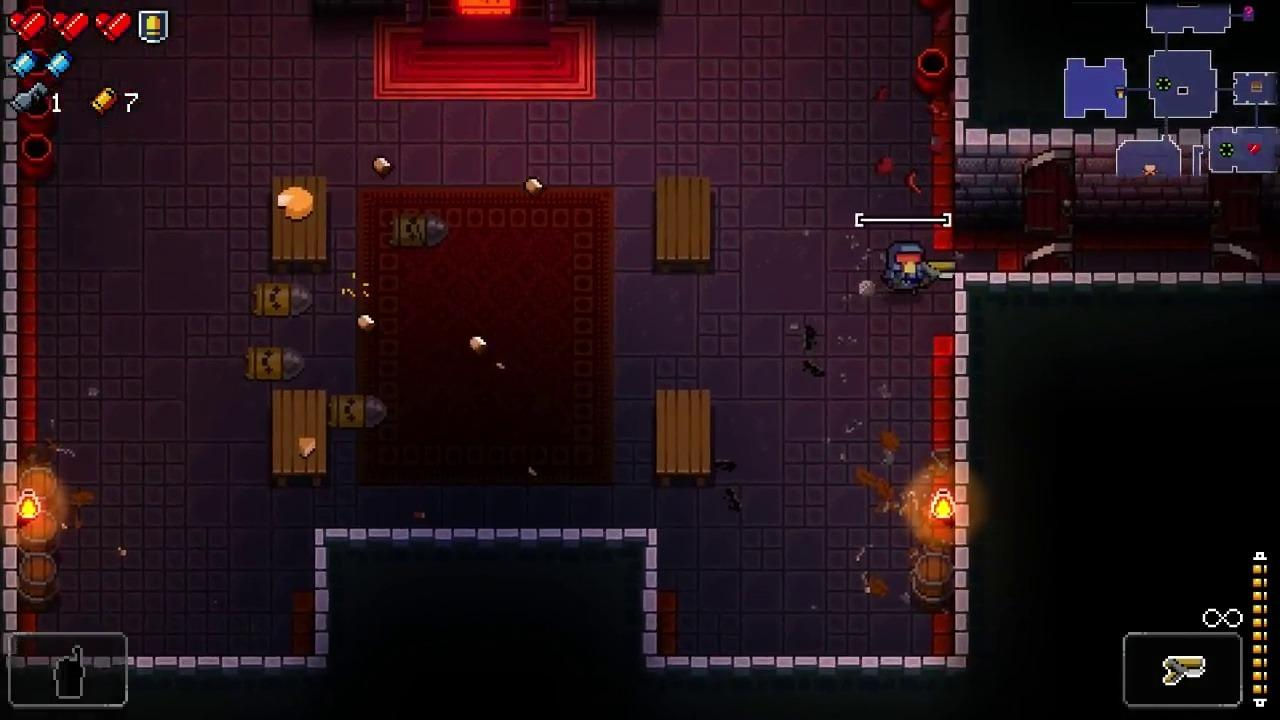dead_bullet_kin: (252, 282, 315, 318), (244, 346, 306, 382), (330, 394, 388, 429)
dead_veteran_bullet_kin: (392, 215, 450, 248)
player: (886, 240, 927, 297)
table: (272, 176, 327, 274), (657, 391, 712, 487), (273, 389, 325, 489), (656, 176, 710, 272)
unlocked_door: (1023, 148, 1075, 273)
